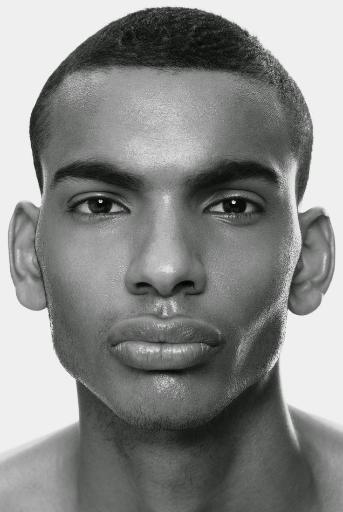left_eye: (199, 194, 268, 224)
left_lip_corner: (208, 333, 228, 358)
right_eye: (65, 194, 133, 225)
right_lip_corner: (104, 334, 125, 358)
